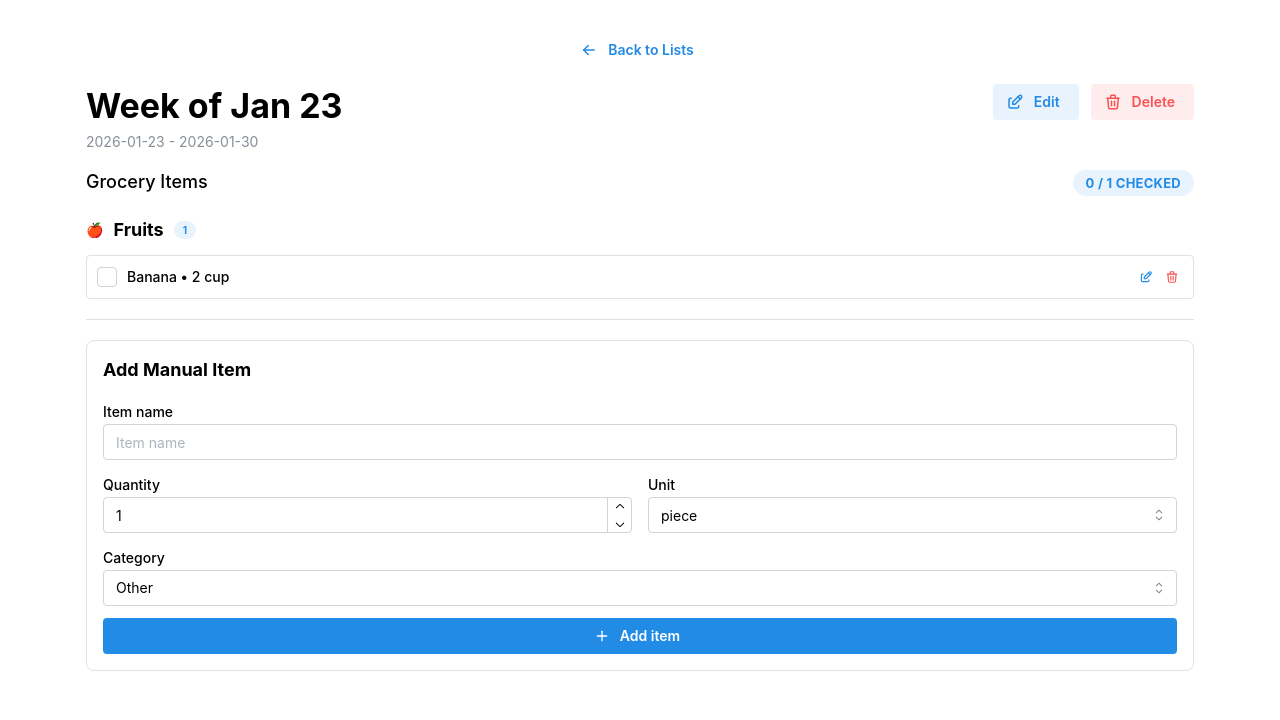
GroceryListDetailPage › Delete List › should open confirmation modal when delete button is clicked
This screenshot has width=1280, height=720.
Step 1. Click the button with test id "delete-list-button" → (1142, 102), box [1091, 84, 1194, 120]
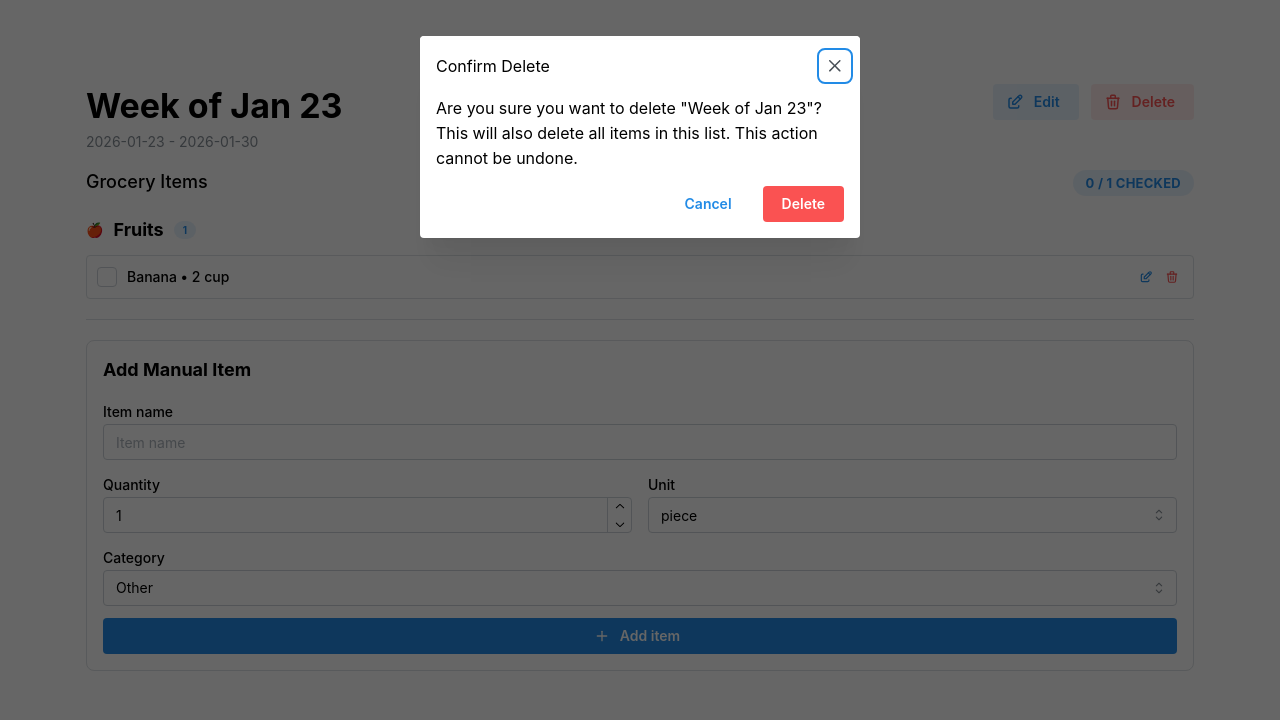
Check: the heading "Confirm Delete" is shown, box [436, 58, 550, 74]
